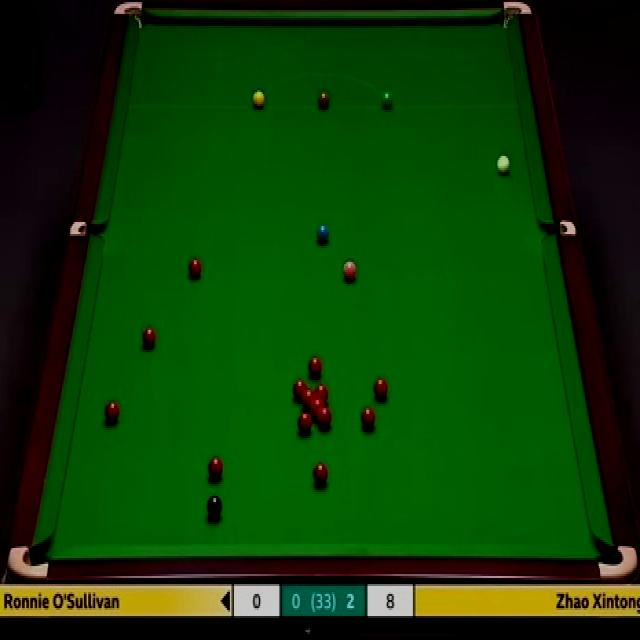black-ball: (207, 494, 224, 518)
blue-ball: (316, 222, 330, 247)
brown-ball: (317, 90, 330, 109)
green-ball: (381, 90, 394, 109)
pink-ball: (342, 262, 358, 284)
red-ball: (138, 323, 160, 350), (312, 462, 330, 488), (102, 398, 119, 423), (306, 356, 325, 378), (292, 376, 308, 402), (360, 406, 376, 431), (316, 408, 333, 431), (314, 384, 330, 408), (208, 456, 224, 480), (372, 378, 389, 400), (297, 410, 312, 434), (301, 390, 317, 410), (188, 260, 202, 278), (310, 399, 324, 416)
white-ball: (495, 152, 510, 178)
yellow-ball: (252, 90, 265, 109)
